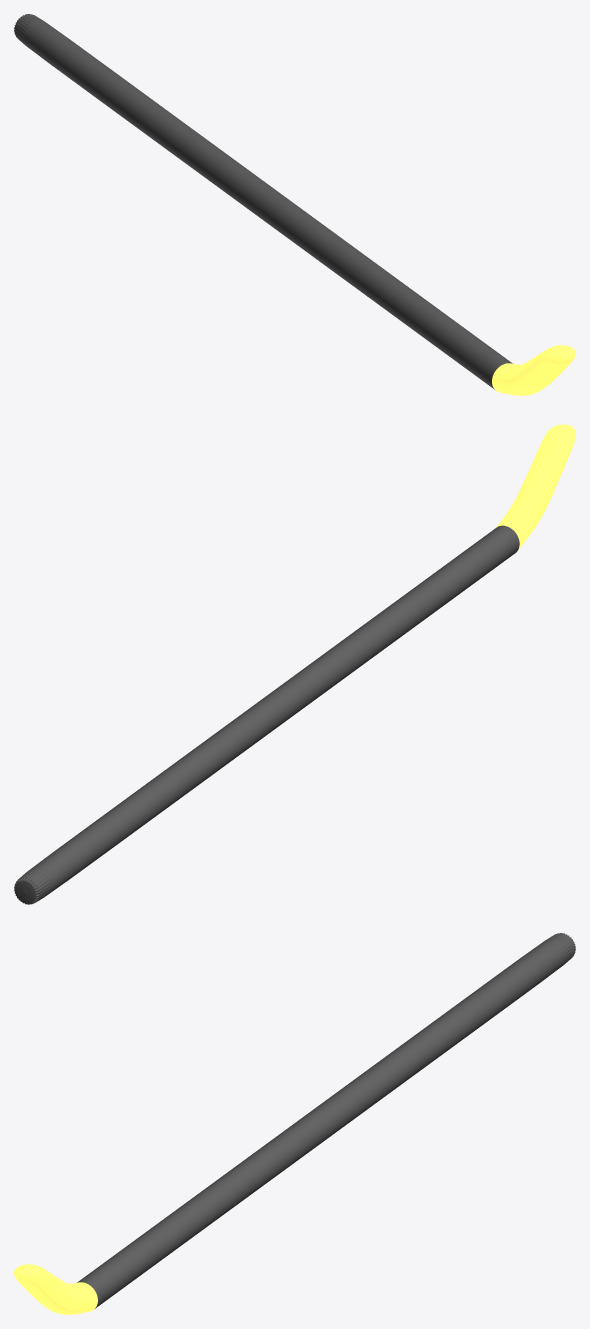
Rendered from Rod.fbx.
The picture shows the model from 3 angles, top to bottom: view 1: azimuth 30°, elevation 25°; view 2: azimuth 150°, elevation 25°; view 3: azimuth 330°, elevation 25°; orthographic projection.
Parts seen in each view (by area): view 1: Rod_Top, Rod_Bottom; view 2: Rod_Top, Rod_Bottom; view 3: Rod_Top, Rod_Bottom.
Part boxes in pixels (left/top/right/bottom): Rod_Top: left=14, top=14, right=512, bottom=389; Rod_Bottom: left=492, top=345, right=575, bottom=395; Rod_Top: left=14, top=525, right=519, bottom=904; Rod_Bottom: left=496, top=424, right=575, bottom=549; Rod_Top: left=77, top=933, right=575, bottom=1308; Rod_Bottom: left=14, top=1264, right=97, bottom=1314.
Size of the model in its own units: 0.9927 by 2.98 by 33.96.
